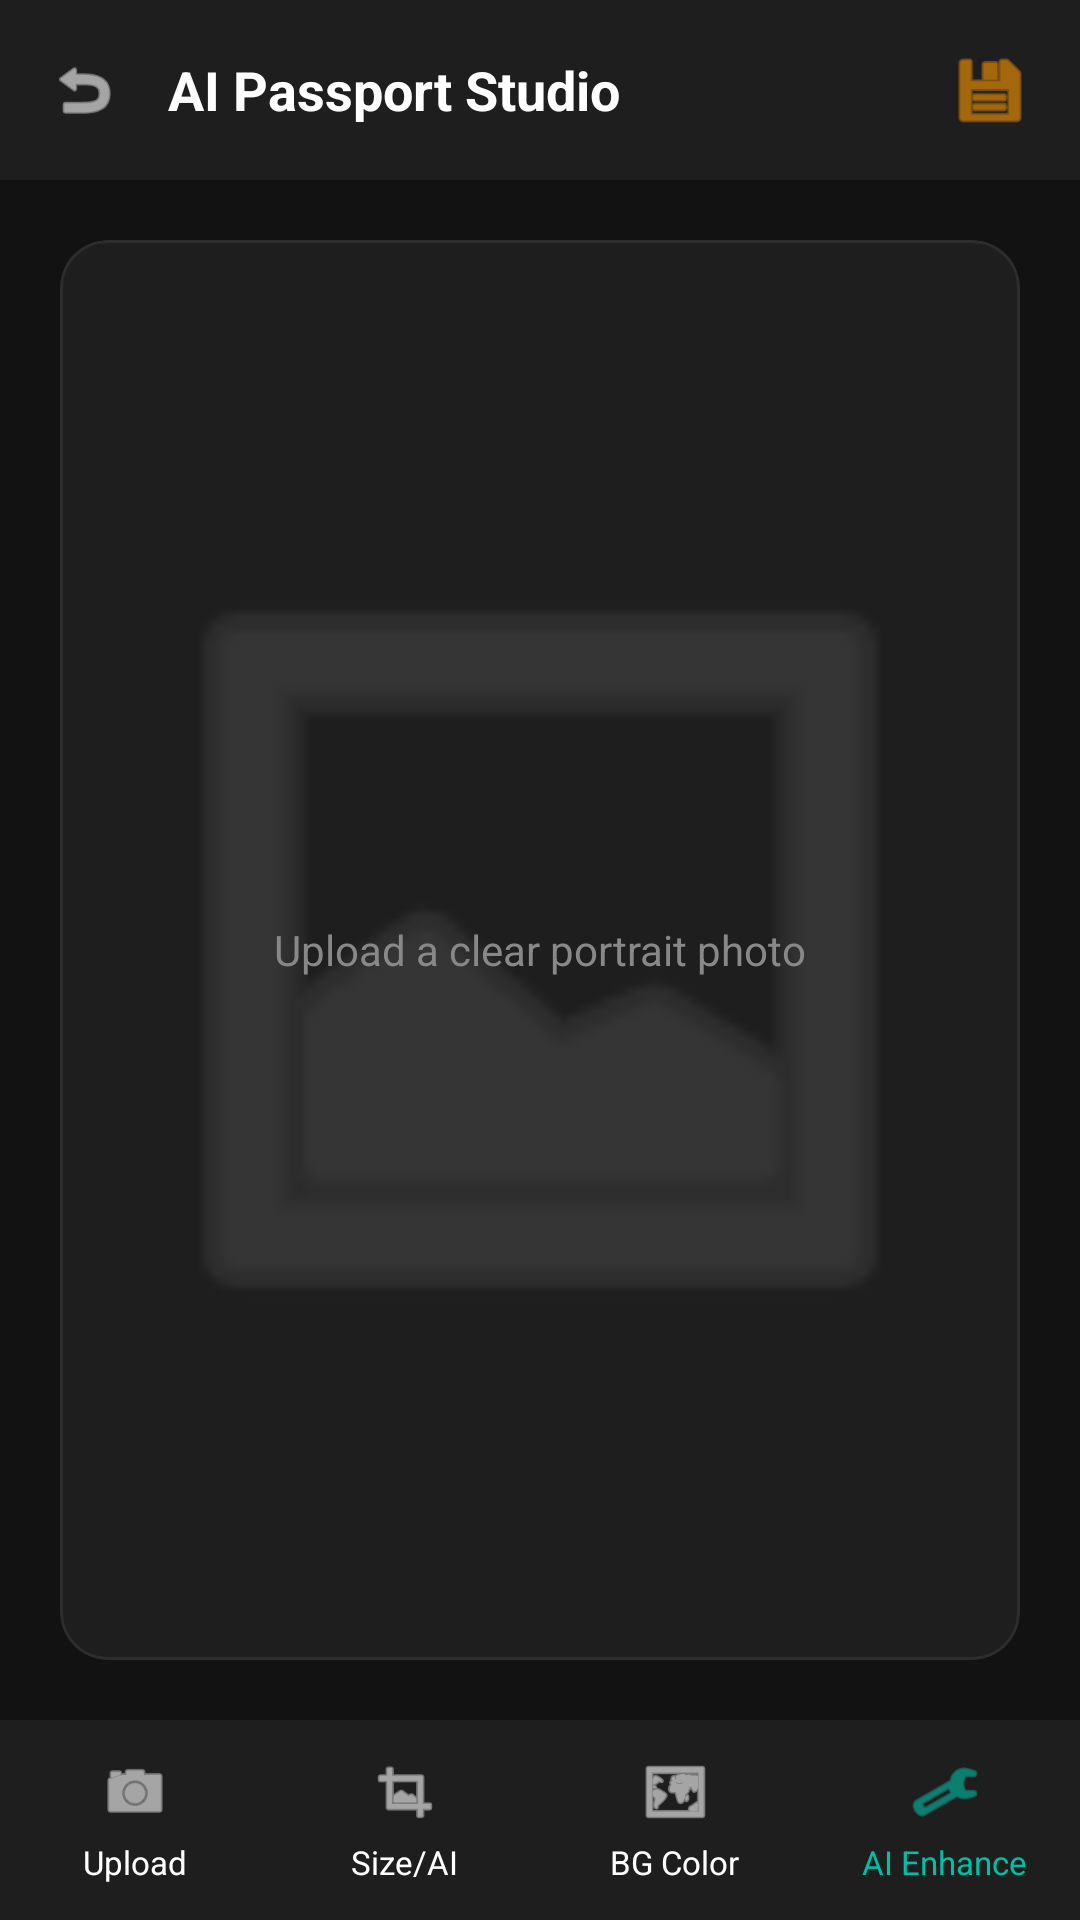

Point at icon controls on the screen. Image size 1080px x 1920px, points as (x=x, y=y).
camera: (x=135, y=1791)
crop: (x=405, y=1792)
manage: (x=945, y=1792)
mapmode: (x=675, y=1792)
revert: (x=85, y=90)
save: (x=990, y=90)
